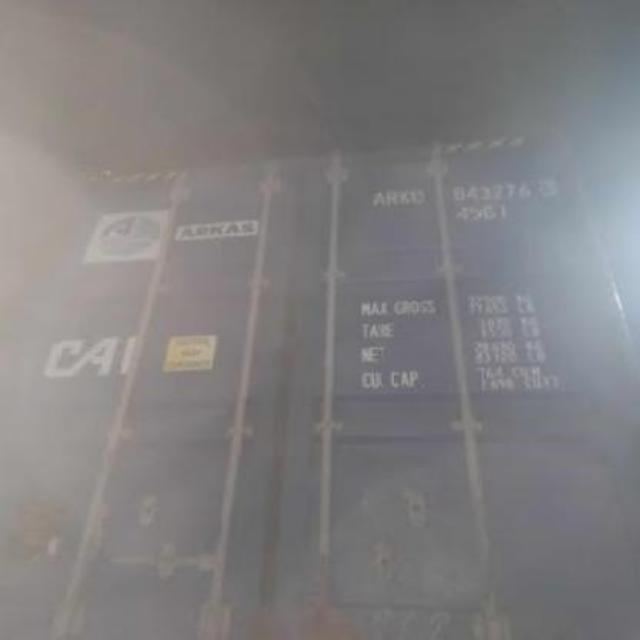2: (494, 184, 506, 200)
3: (482, 186, 492, 200)
4: (466, 185, 479, 201)
6: (518, 182, 532, 198)
7: (506, 183, 516, 199)
8: (454, 185, 466, 201), (542, 182, 556, 194)
A: (370, 190, 386, 206)
K: (398, 190, 410, 204)
R: (386, 192, 399, 204)
U: (410, 188, 422, 204)
